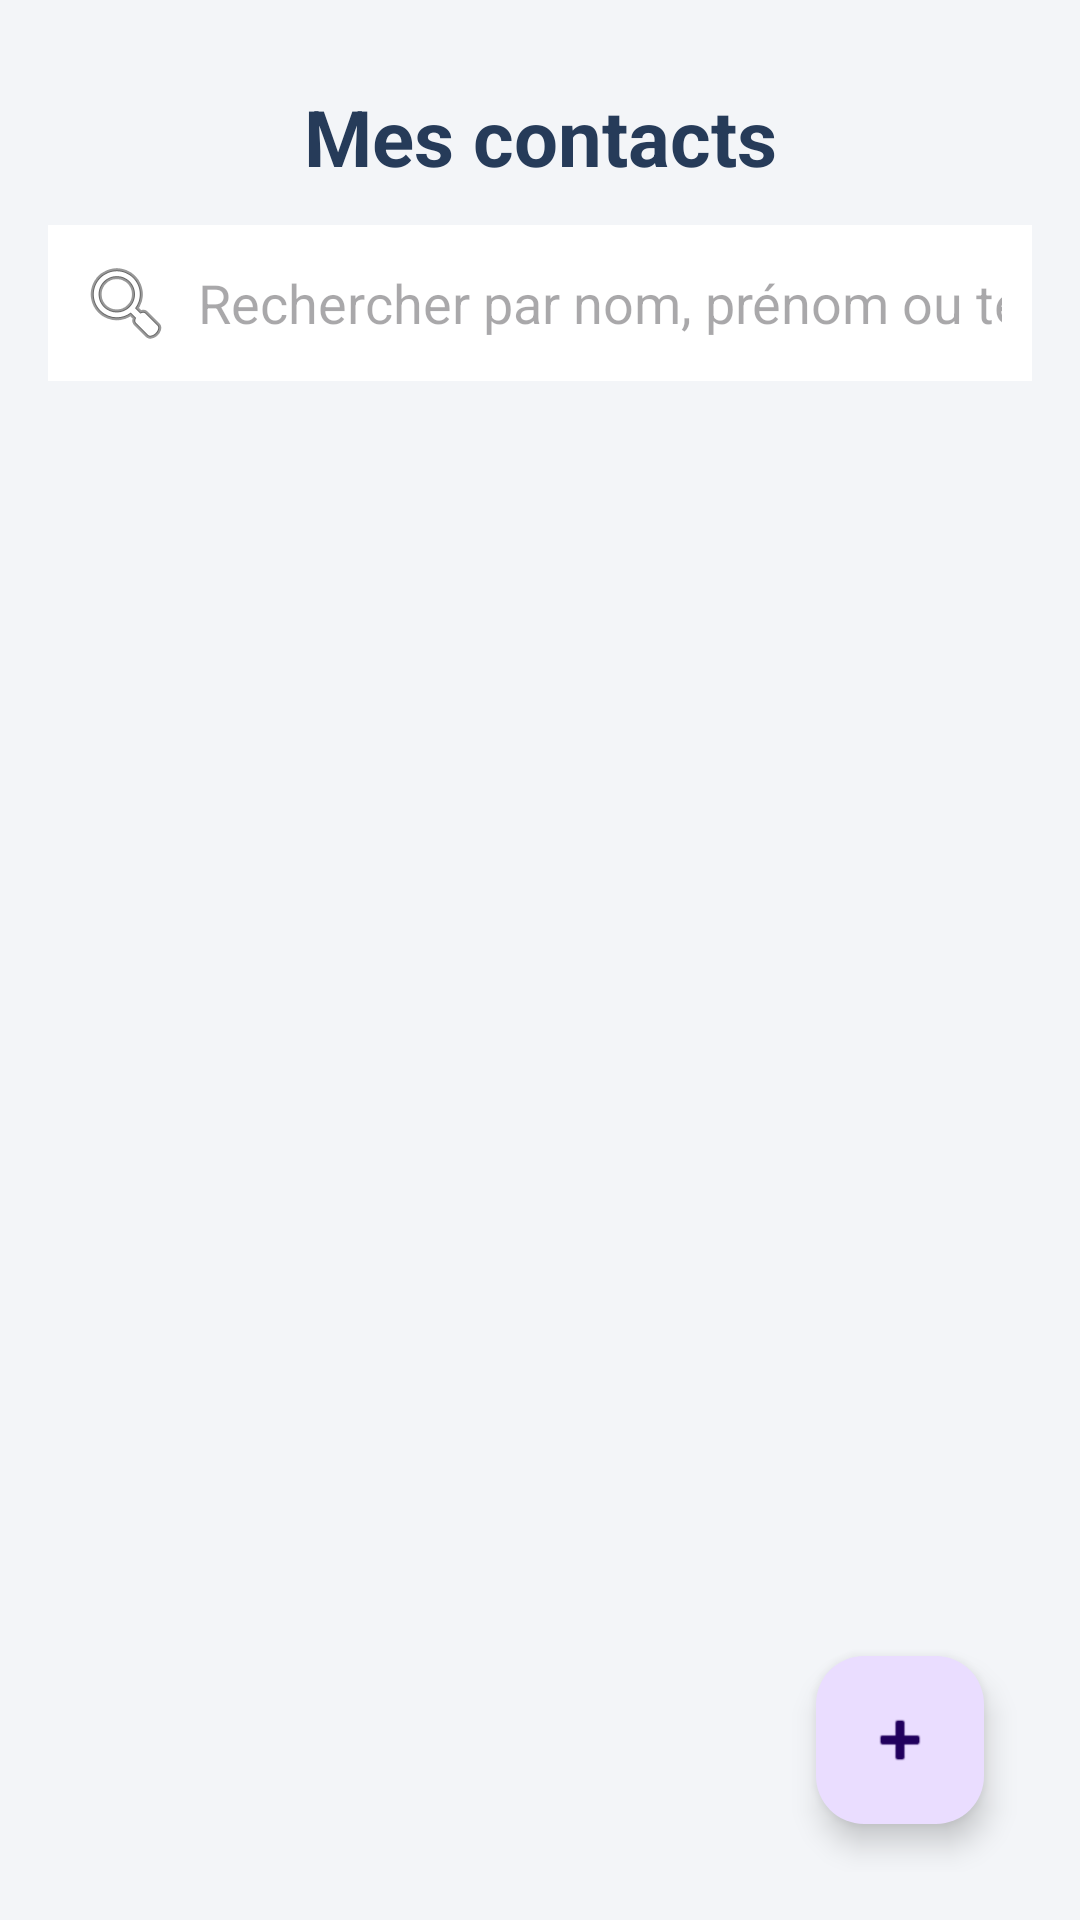

Named icons in this screenshot (1080w x 1920h) and their centers, point (x, y):
Ajouter un contact: point (900, 1740)
